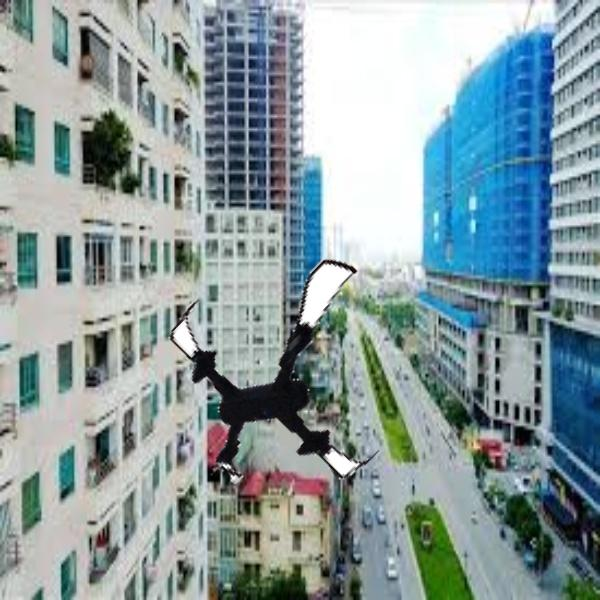drone: (156, 243, 420, 507)
